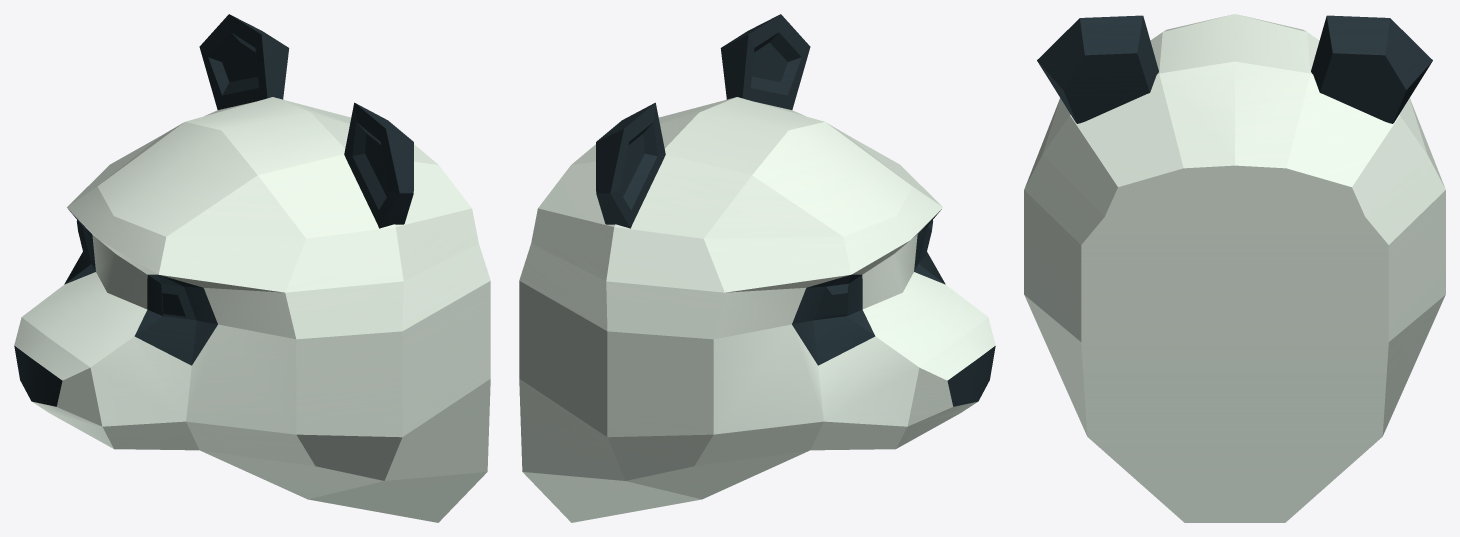
File: SM_Panda_Head.fbx
3 views of the same model, side by side, from view 1: azimuth 30°, elevation 25°; view 2: azimuth 150°, elevation 25°; view 3: azimuth 270°, elevation 25° (orthographic).
Parts seen in each view (by area): view 1: SM_Panda_Head; view 2: SM_Panda_Head; view 3: SM_Panda_Head.
Part boxes in pixels (x1,y1,x2,y2): SM_Panda_Head: (14, 14, 490, 522); SM_Panda_Head: (519, 14, 995, 522); SM_Panda_Head: (1024, 14, 1445, 522).
Bounding box in the file's own units: 43 × 49.7 × 41.6.
